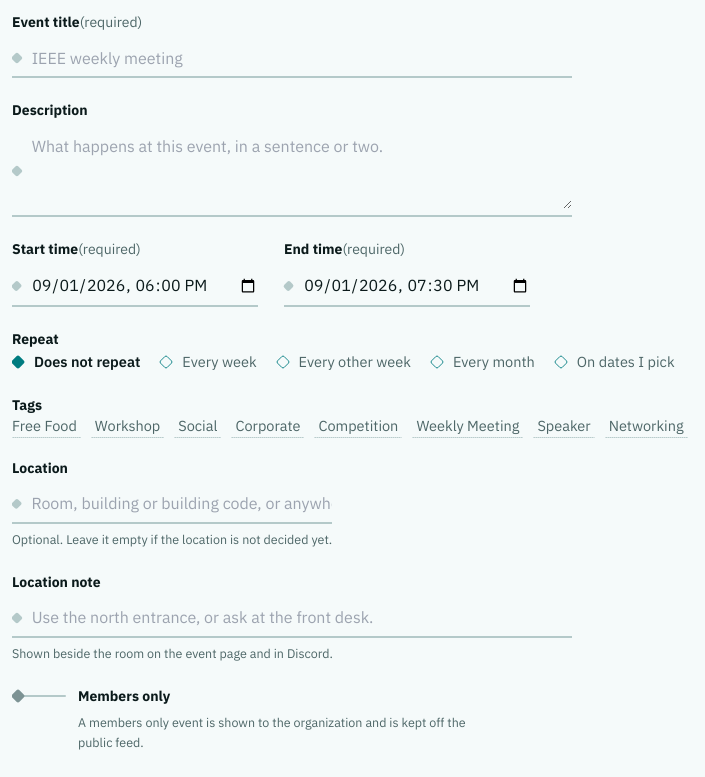
EventForm repeat controls › asks which days only once a repeat is chosen
The width and height of the screenshot is (705, 777).
Expected: the button "Tue" is not shown
Click the button "Every week" at (208, 362), box [160,351,257,373]
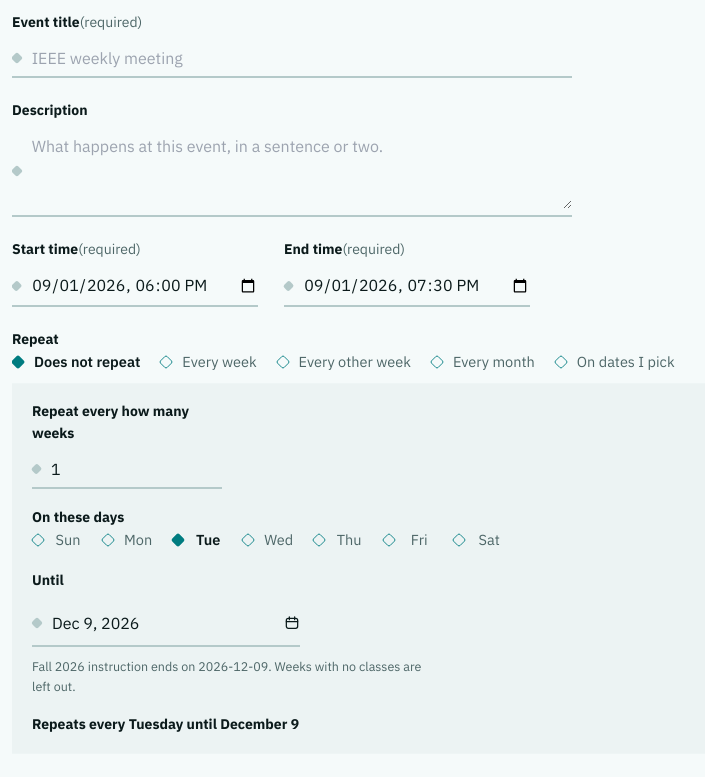
Now the button "Tue" is shown, box [172,529,222,552]
